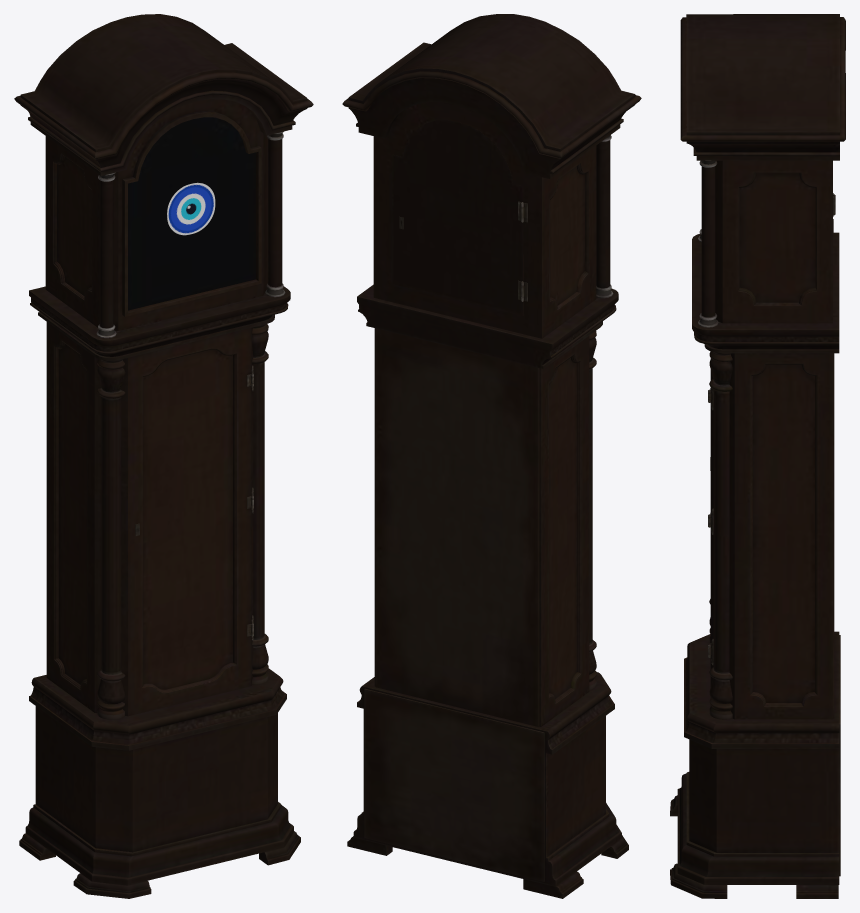
File: nyb_bramford_clock.glb
3 views of the same model, side by side, from view 1: azimuth 30°, elevation 25°; view 2: azimuth 150°, elevation 25°; view 3: azimuth 270°, elevation 25° (orthographic). The views are drawn at different scales.
Visible parts, largest first — view 1: vintage_grandfather_clock_01_body, stk_nazar_die.png; view 2: vintage_grandfather_clock_01_body; view 3: vintage_grandfather_clock_01_body.
Boxes of the visible parts, <box> form: vintage_grandfather_clock_01_body: <box>14,14,313,898</box>; stk_nazar_die.png: <box>167,182,215,235</box>; vintage_grandfather_clock_01_body: <box>342,14,641,898</box>; vintage_grandfather_clock_01_body: <box>670,14,845,898</box>.
Bounding box in the file's own units: 0.6256 × 2.19 × 0.4267.
3 materials, 3 textured.
